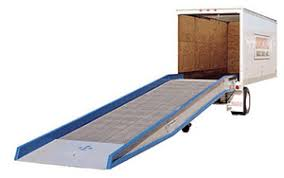Yard Ramp: (13, 73, 238, 171)
